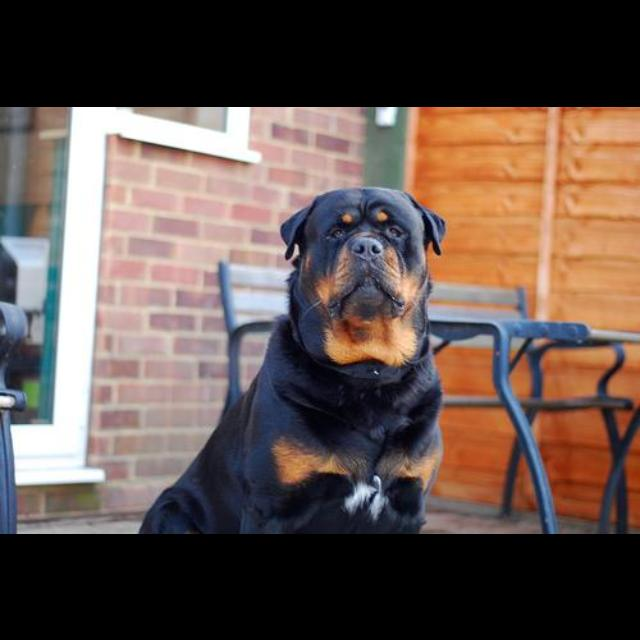rottweiler: (137, 185, 448, 533)
